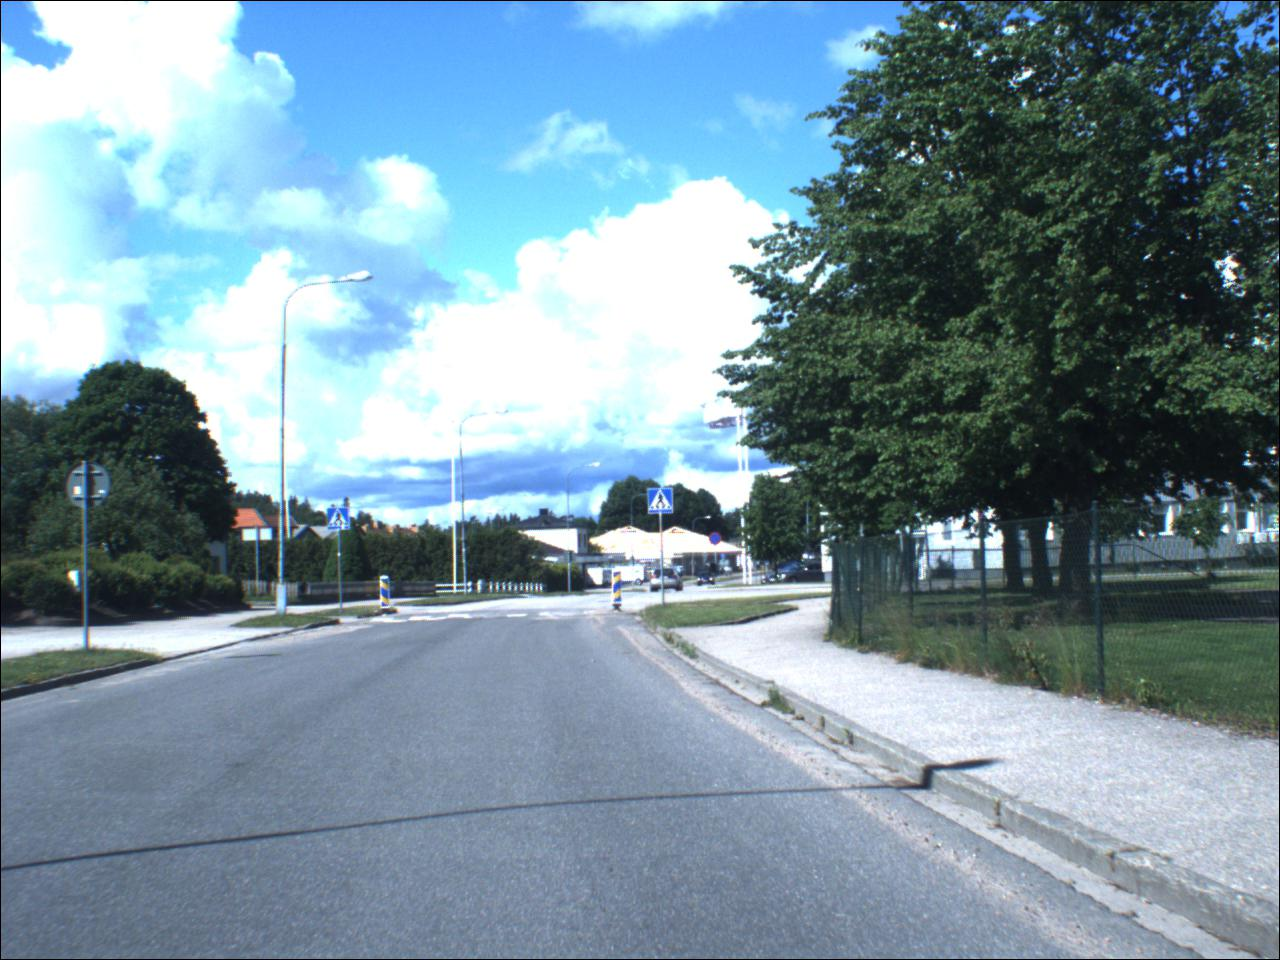NO_PARKING: (711, 533, 725, 549)
PEDESTRIAN_CROSSING: (650, 490, 676, 516), (330, 510, 353, 533)
